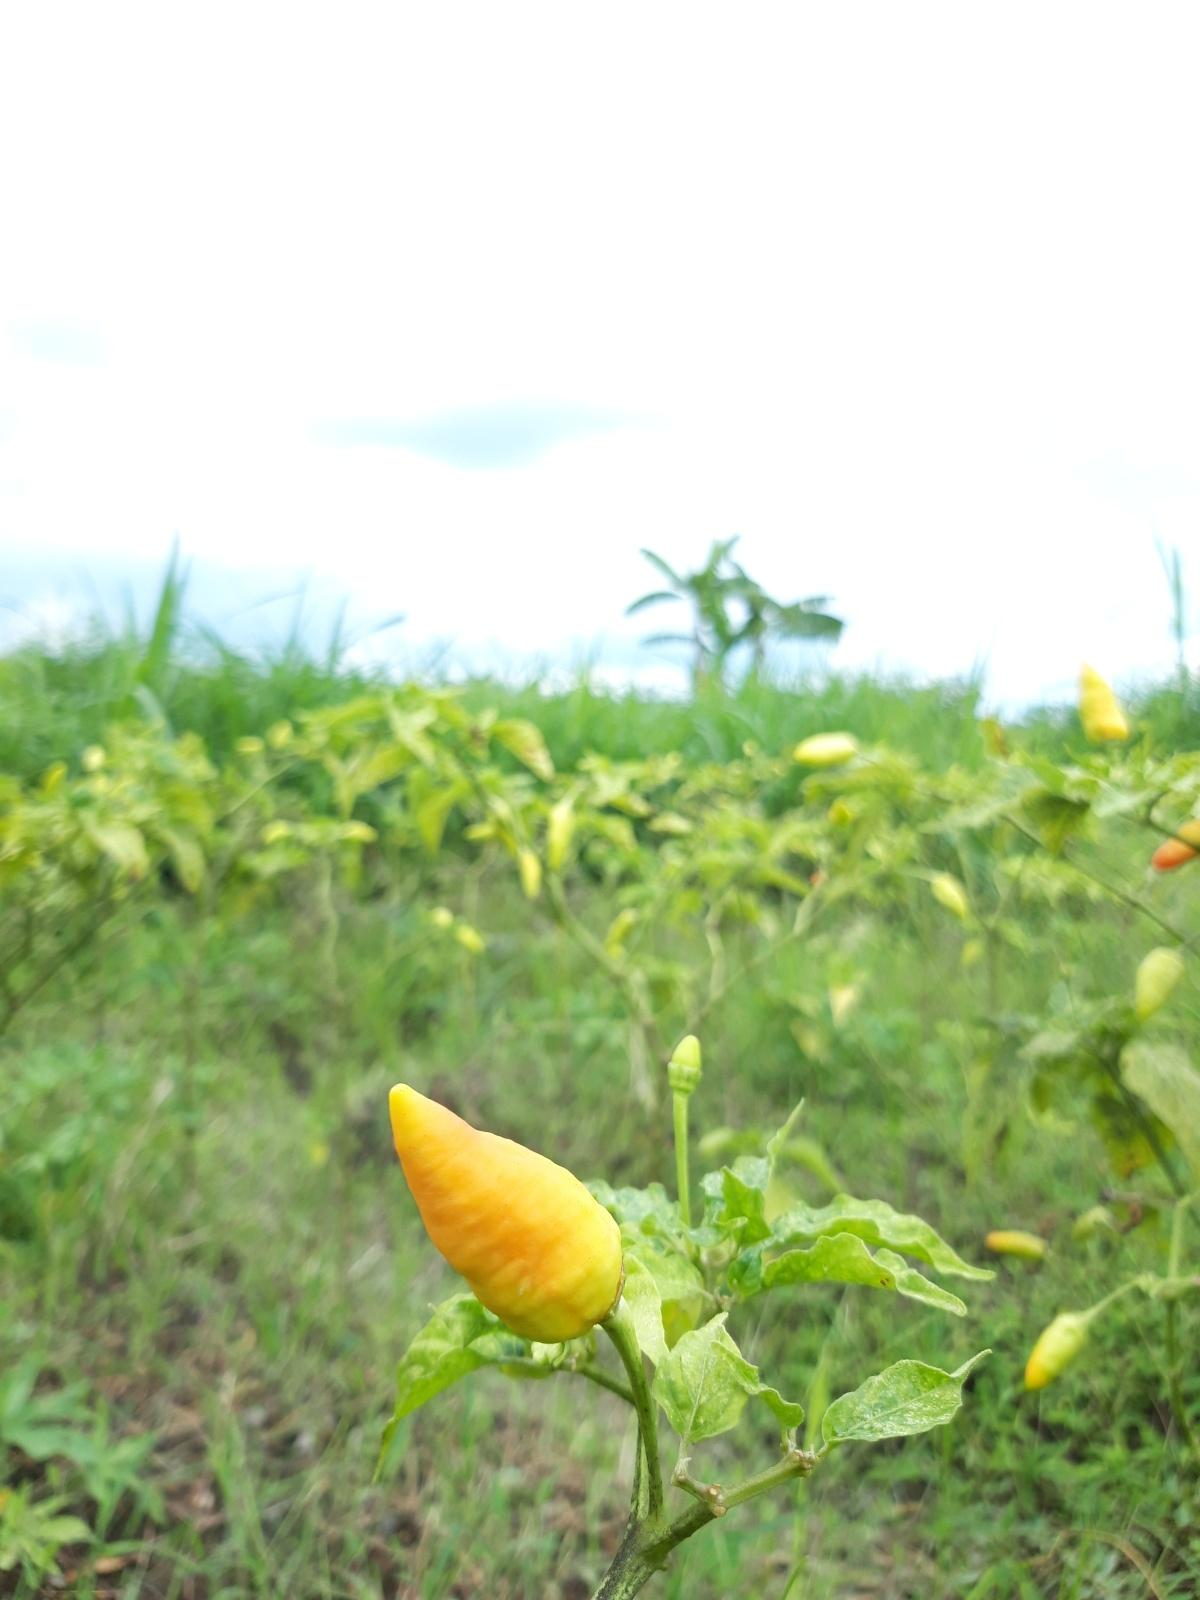cabai_normal: (388, 1082, 626, 1344), (1026, 1311, 1090, 1391), (1079, 661, 1127, 740), (1152, 823, 1200, 873), (986, 1227, 1044, 1265), (671, 1028, 702, 1091)
